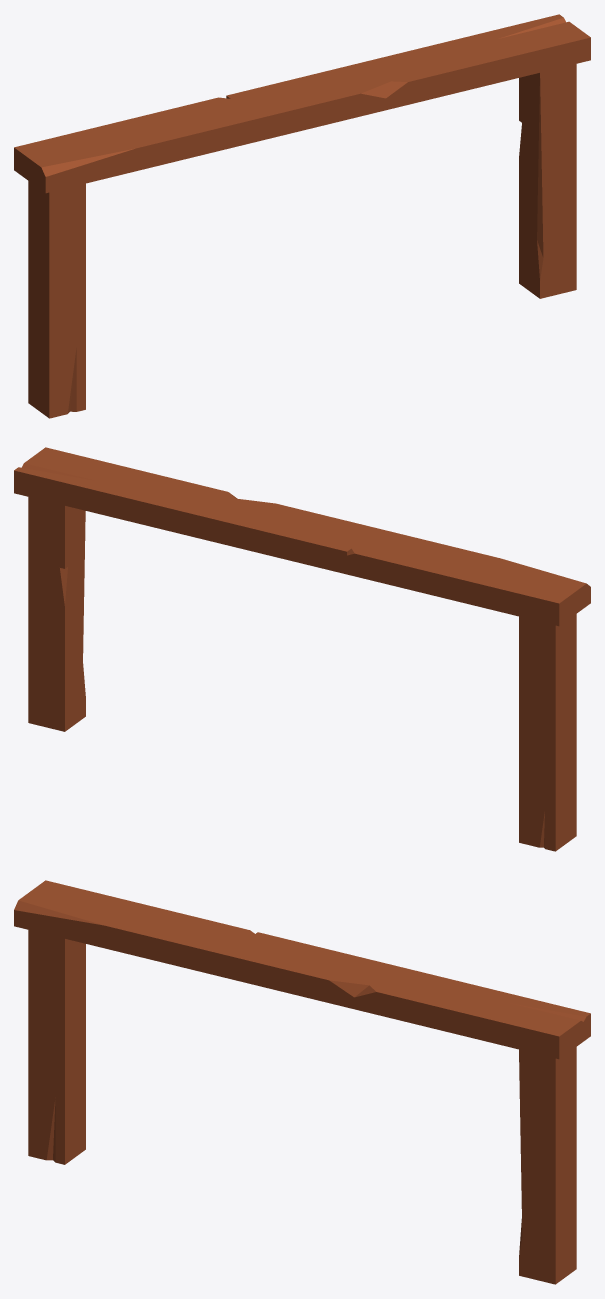
The model's file is Prop_Fantasy_Fence_Timber_Hitching_Post_Rail_Tall_01.FBX.
3 views of the same model, one above another, from view 1: azimuth 30°, elevation 25°; view 2: azimuth 150°, elevation 25°; view 3: azimuth 330°, elevation 25° (orthographic).
Visible parts, largest first — view 1: Prop_Fantasy_Fence_Timber_Hitching_Post_Rail_Tall_01; view 2: Prop_Fantasy_Fence_Timber_Hitching_Post_Rail_Tall_01; view 3: Prop_Fantasy_Fence_Timber_Hitching_Post_Rail_Tall_01.
Boxes of the visible parts, <box> form: Prop_Fantasy_Fence_Timber_Hitching_Post_Rail_Tall_01: <box>14,14,590,418</box>; Prop_Fantasy_Fence_Timber_Hitching_Post_Rail_Tall_01: <box>14,447,590,851</box>; Prop_Fantasy_Fence_Timber_Hitching_Post_Rail_Tall_01: <box>14,880,590,1284</box>.
Size of the model in its own units: 2812 by 1252 by 282.
